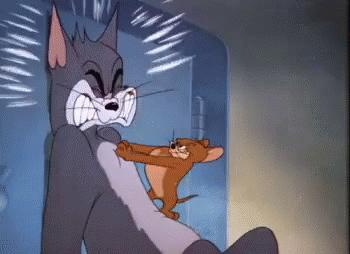jerry: (115, 129, 226, 221)
